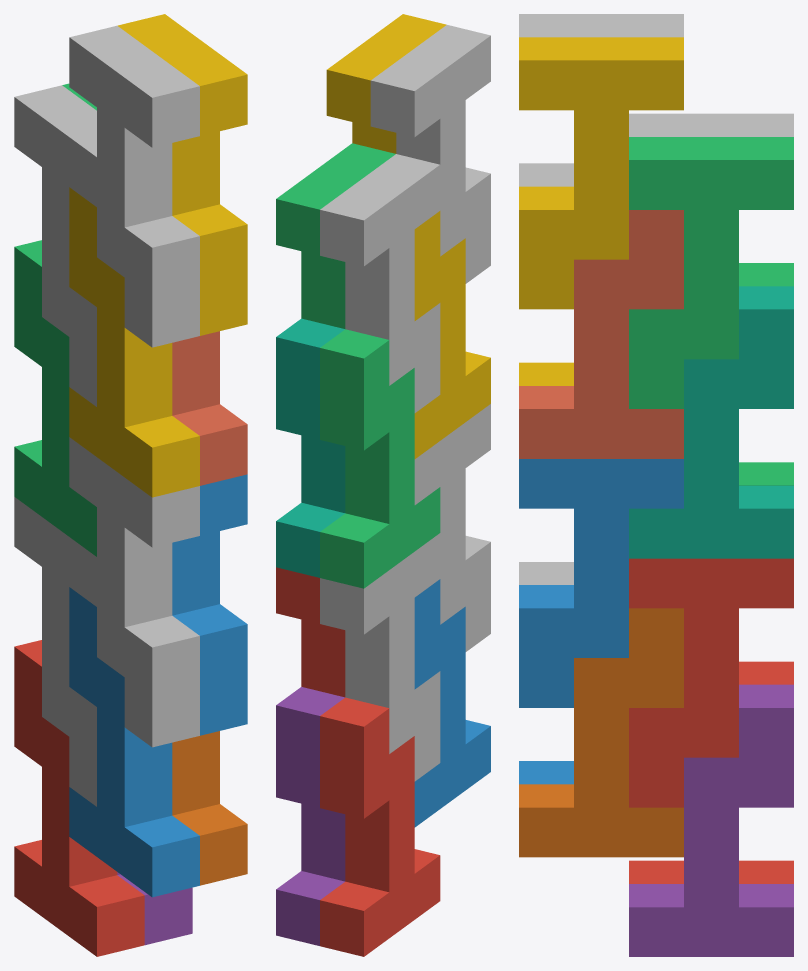
Rendered from tiling.obj.
The picture shows the model from 3 angles, left to right: view 1: azimuth 30°, elevation 25°; view 2: azimuth 150°, elevation 25°; view 3: azimuth 270°, elevation 25°; orthographic projection. The views are drawn at different scales.
Visible parts, largest first — view 1: copy_2_domain_4, copy_2_domain_2, copy_1_domain_2, copy_1_domain_4, copy_1_domain_1, copy_2_domain_8, copy_2_domain_3, copy_2_domain_6, copy_1_domain_3, copy_2_domain_1, copy_1_domain_8, copy_1_domain_6 (+1 smaller); view 2: copy_1_domain_1, copy_1_domain_3, copy_2_domain_3, copy_2_domain_4, copy_2_domain_1, copy_1_domain_5, copy_1_domain_7, copy_1_domain_2, copy_1_domain_4, copy_2_domain_2, copy_2_domain_7, copy_2_domain_8 (+1 smaller); view 3: copy_2_domain_8, copy_1_domain_5, copy_2_domain_7, copy_1_domain_7, copy_1_domain_6, copy_1_domain_8, copy_2_domain_6, copy_2_domain_5, copy_2_domain_4, copy_1_domain_1, copy_2_domain_3, copy_1_domain_3 (+3 smaller).
Boxes of the visible parts, x1,y1,x2,y2 form: copy_2_domain_4: [69, 25, 199, 347]; copy_2_domain_2: [69, 437, 199, 747]; copy_1_domain_2: [69, 587, 199, 897]; copy_1_domain_4: [69, 187, 199, 497]; copy_1_domain_1: [14, 640, 144, 956]; copy_2_domain_8: [117, 14, 247, 335]; copy_2_domain_3: [14, 85, 96, 406]; copy_2_domain_6: [172, 474, 247, 735]; copy_1_domain_3: [14, 240, 96, 556]; copy_2_domain_1: [14, 497, 96, 806]; copy_1_domain_8: [172, 331, 247, 485]; copy_1_domain_6: [172, 731, 247, 885]; copy_1_domain_1: [320, 697, 440, 956]; copy_1_domain_3: [320, 329, 440, 588]; copy_2_domain_3: [320, 154, 440, 412]; copy_2_domain_4: [370, 25, 490, 283]; copy_2_domain_1: [320, 533, 440, 781]; copy_1_domain_5: [276, 687, 345, 945]; copy_1_domain_7: [276, 318, 345, 577]; copy_1_domain_2: [414, 579, 490, 827]; copy_1_domain_4: [414, 211, 490, 458]; copy_2_domain_2: [414, 404, 490, 651]; copy_2_domain_7: [276, 143, 395, 328]; copy_2_domain_8: [326, 14, 446, 153]; copy_2_domain_8: [519, 37, 683, 309]; copy_1_domain_5: [629, 684, 793, 956]; copy_2_domain_7: [629, 137, 793, 408]; copy_1_domain_7: [629, 286, 793, 558]; copy_1_domain_6: [519, 608, 683, 857]; copy_1_domain_8: [519, 210, 683, 458]; copy_2_domain_6: [519, 459, 683, 707]; copy_2_domain_5: [629, 558, 793, 807]; copy_2_domain_4: [519, 14, 683, 186]; copy_1_domain_1: [629, 661, 793, 883]; copy_2_domain_3: [629, 113, 793, 136]; copy_1_domain_3: [739, 263, 793, 485].
Size of the model in its own units: 2 by 18 by 5.
